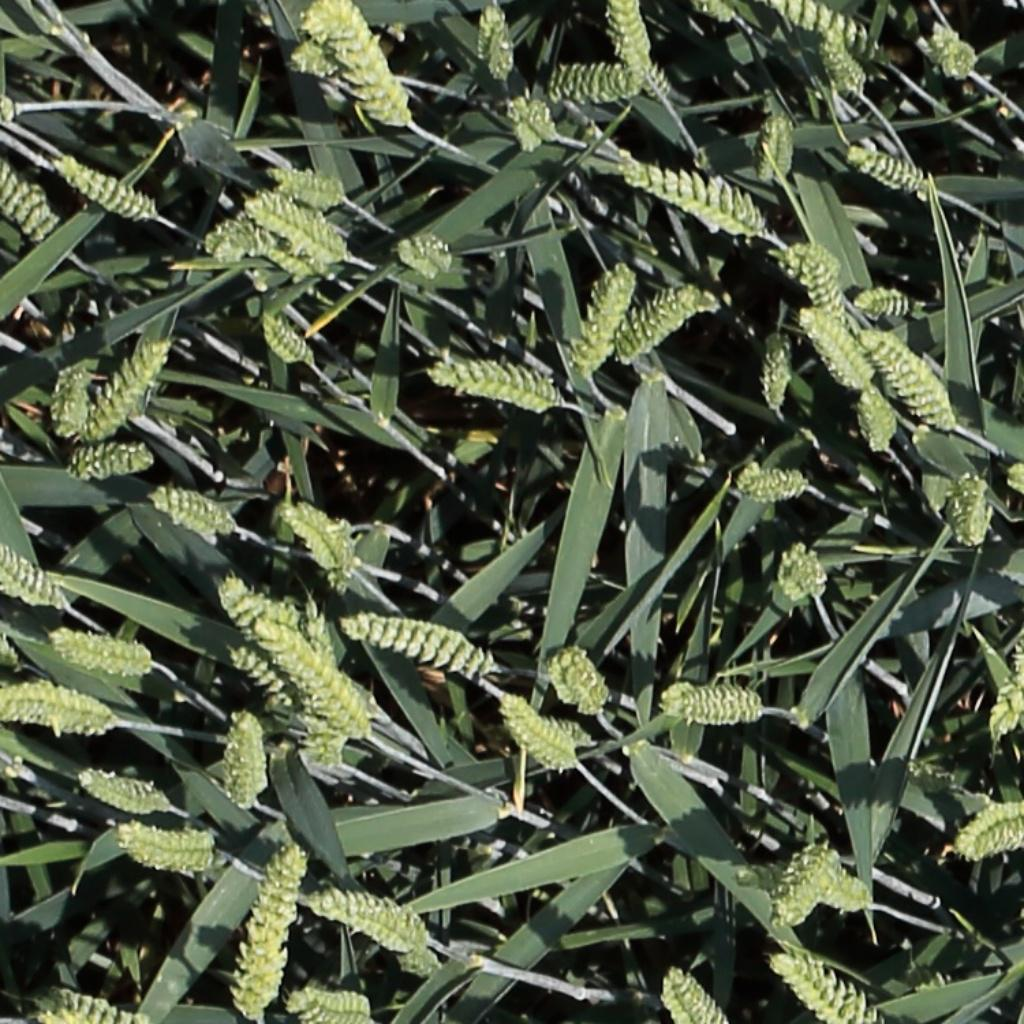0-0: (256, 614, 373, 738), (311, 1, 413, 129), (240, 839, 305, 1018), (292, 579, 352, 768), (623, 158, 771, 234), (77, 331, 172, 442), (862, 326, 958, 427), (303, 881, 434, 955), (342, 619, 496, 677), (424, 352, 566, 414), (573, 256, 641, 380), (774, 839, 860, 927), (776, 0, 894, 60), (615, 286, 708, 361), (776, 953, 876, 1021), (801, 304, 879, 391), (55, 152, 155, 218), (980, 606, 1024, 747), (254, 193, 353, 254), (789, 245, 853, 331), (0, 139, 53, 237), (493, 698, 574, 762), (281, 503, 350, 577), (226, 711, 275, 809), (202, 215, 298, 264), (271, 983, 383, 1024), (664, 687, 770, 730), (229, 647, 300, 711), (0, 537, 64, 607), (547, 60, 669, 96), (551, 645, 610, 716), (221, 580, 298, 632), (949, 475, 1001, 551), (821, 25, 873, 98), (613, 0, 655, 88), (962, 802, 1024, 861), (150, 490, 237, 532), (68, 436, 159, 476), (47, 363, 99, 433), (79, 772, 167, 813), (847, 144, 929, 188), (667, 965, 727, 1024), (259, 308, 316, 367), (49, 991, 153, 1023), (739, 464, 812, 508), (54, 637, 148, 671), (927, 20, 978, 81), (780, 539, 826, 606), (860, 378, 898, 458), (853, 281, 927, 321), (118, 842, 211, 873), (397, 233, 458, 278), (280, 36, 343, 79), (512, 87, 553, 152), (764, 329, 793, 413), (759, 107, 794, 176), (484, 1, 513, 84), (539, 726, 603, 761), (268, 167, 345, 196), (477, 2, 506, 77), (121, 828, 214, 851), (400, 945, 440, 979), (0, 599, 19, 667), (701, 0, 742, 24)
